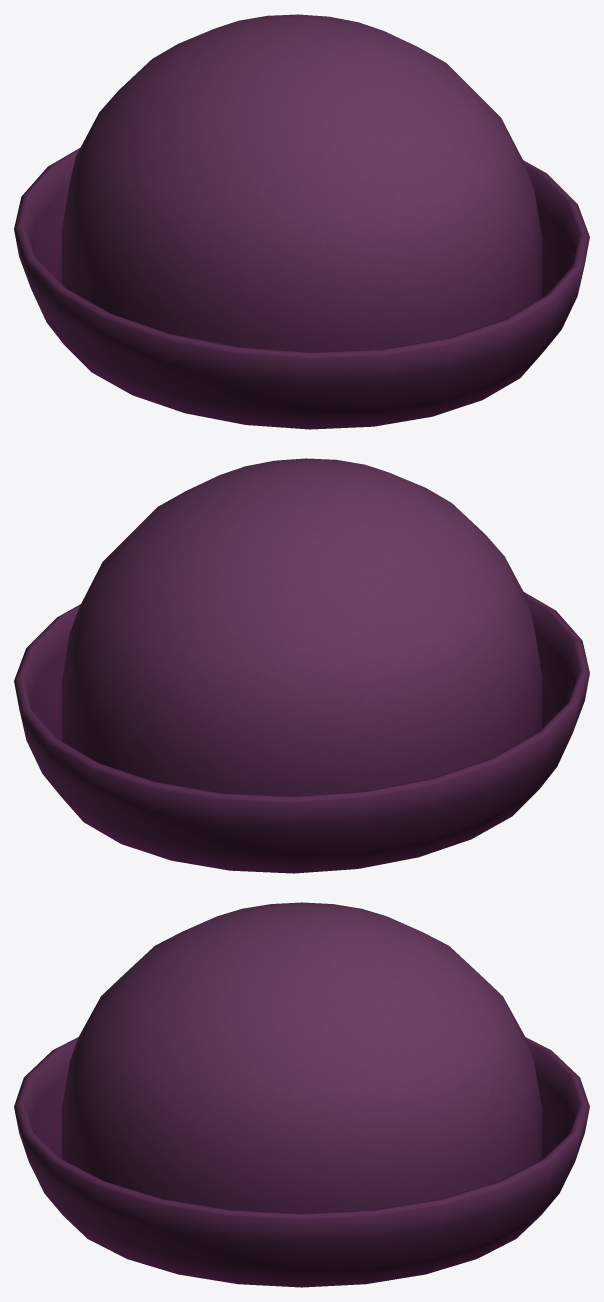
File: WomenBowlerHat.FBX
3 views of the same model, one above another, from view 1: azimuth 30°, elevation 25°; view 2: azimuth 150°, elevation 25°; view 3: azimuth 270°, elevation 25° (orthographic). The views are drawn at different scales.
Parts seen in each view (by area): view 1: WomenBowlerHat; view 2: WomenBowlerHat; view 3: WomenBowlerHat.
Boxes of the visible parts, x1=… form: WomenBowlerHat: x1=14, y1=14, x2=589, y2=429; WomenBowlerHat: x1=14, y1=458, x2=589, y2=873; WomenBowlerHat: x1=14, y1=902, x2=589, y2=1287.
Bounding box in the file's own units: 41.15 × 22.5 × 44.26.
1 material, 1 textured.
